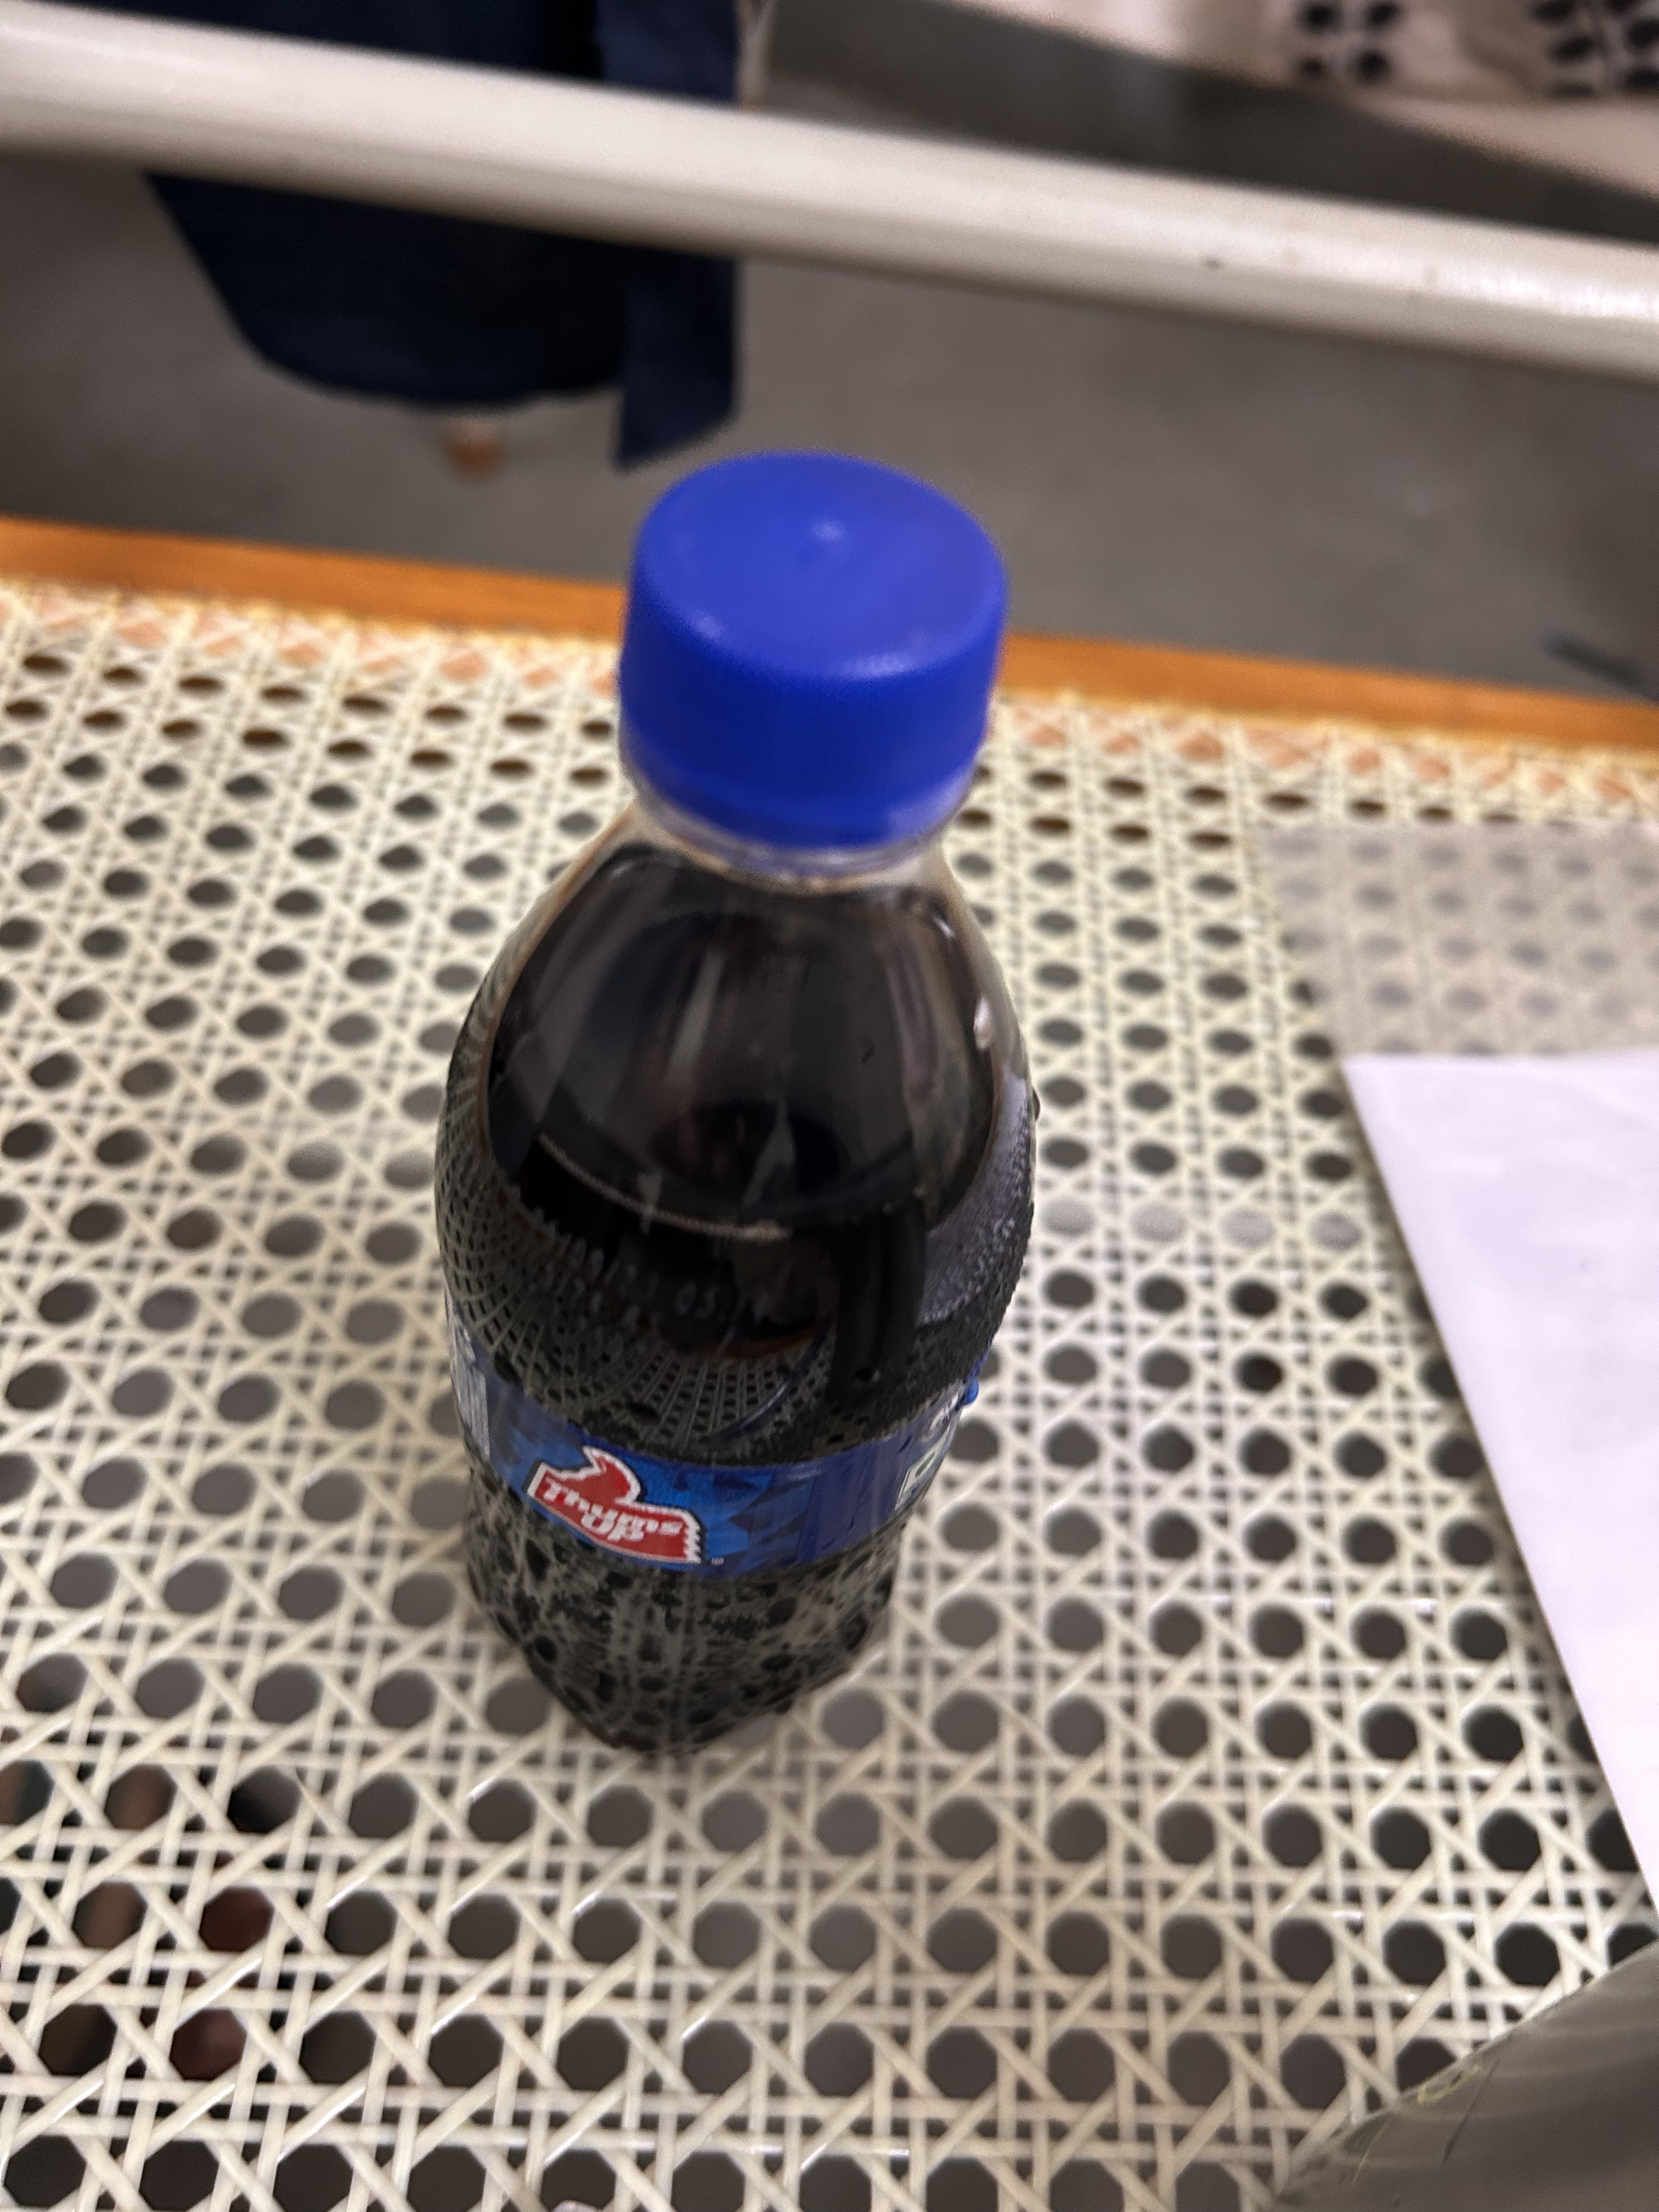sealstable: (582, 423, 1012, 1050)
